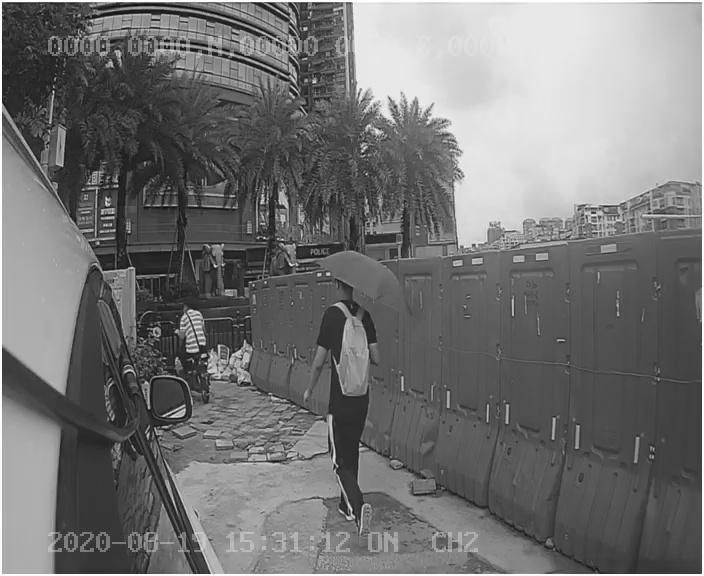person: (297, 268, 400, 529)
